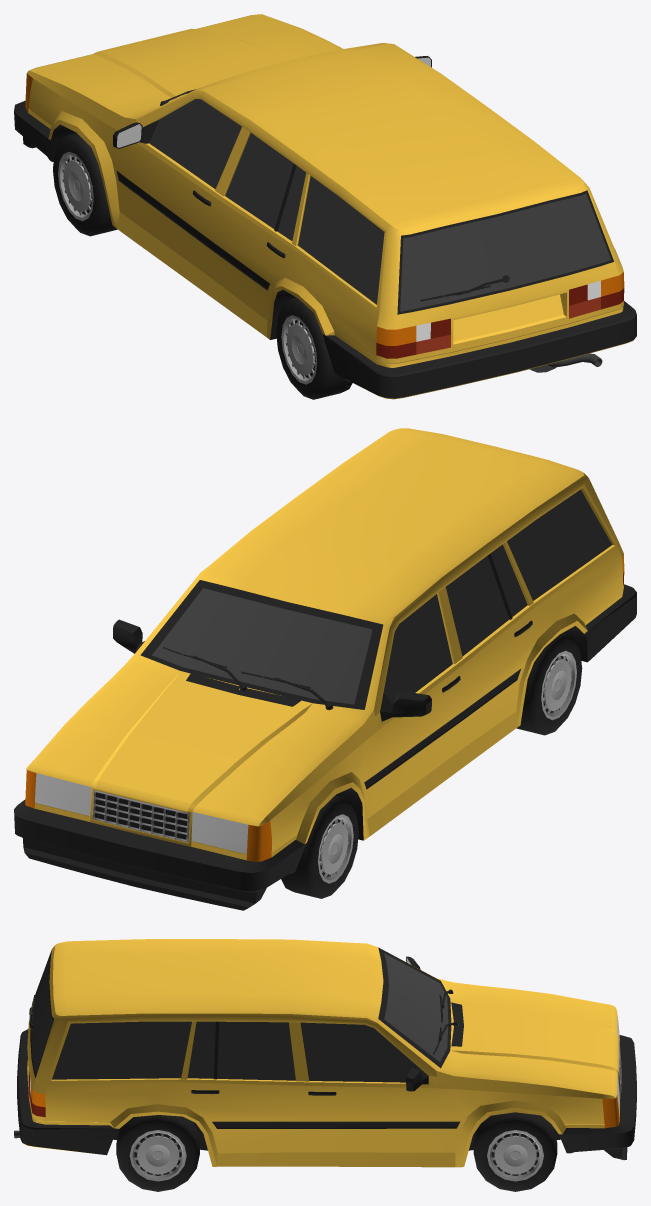
File: m8_wagon_mustard.glb
3 renders of one model, top to bottom at view 1: azimuth 30°, elevation 25°; view 2: azimuth 150°, elevation 25°; view 3: azimuth 270°, elevation 25°, orthographic. The views are drawn at different scales.
Visible parts, largest first — view 1: Body, Wheel_RL, Wheel_FL, Interior; view 2: Body, Wheel_FL, Wheel_RL; view 3: Body, Wheel_FR, Wheel_RR, Interior.
Boxes of the visible parts, left/top/right/bottom form: Body: left=14, top=14, right=636, bottom=399; Wheel_RL: left=276, top=297, right=352, bottom=399; Wheel_FL: left=53, top=133, right=117, bottom=236; Interior: left=160, top=89, right=602, bottom=372; Body: left=14, top=428, right=636, bottom=910; Wheel_FL: left=281, top=795, right=358, bottom=898; Wheel_RL: left=516, top=633, right=582, bottom=735; Body: left=17, top=939, right=636, bottom=1167; Wheel_FR: left=473, top=1112, right=557, bottom=1191; Wheel_RR: left=116, top=1115, right=199, bottom=1191; Interior: left=14, top=989, right=457, bottom=1138.
Bounding box in the file's own units: 2.13 × 1.36 × 4.54.
1 material, 1 textured.
